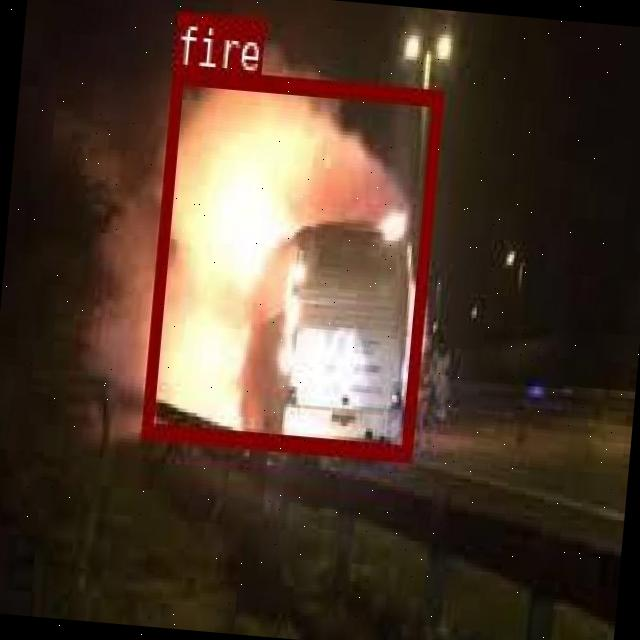fire: (140, 64, 442, 458)
